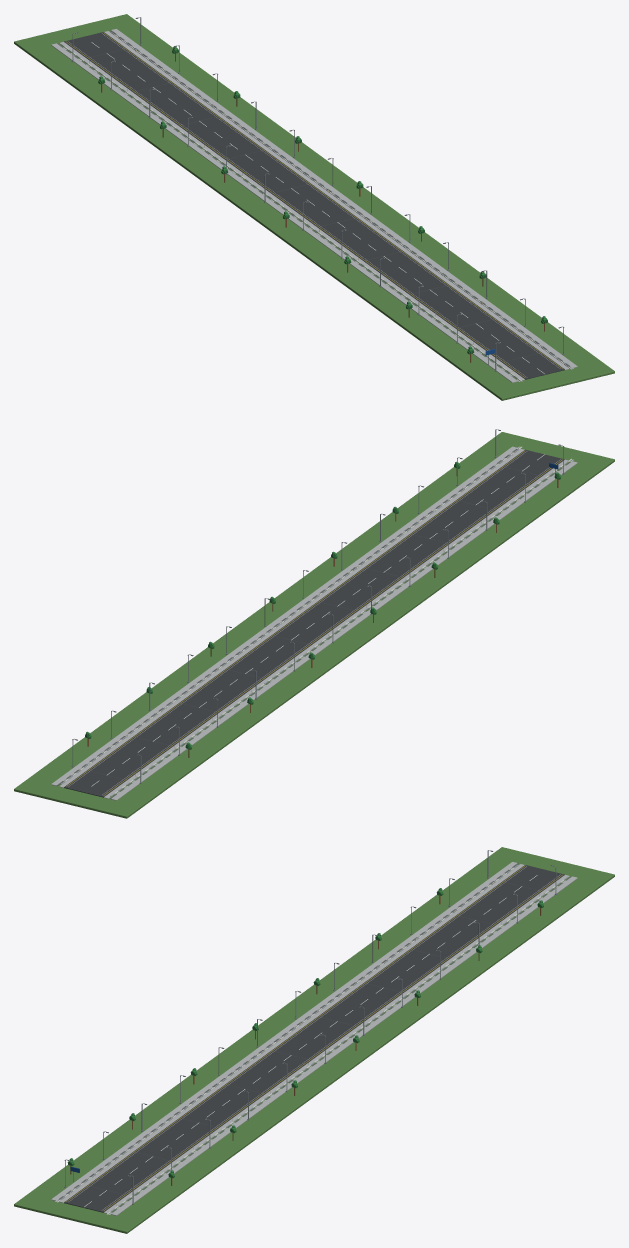
Rendered from Road.fbx.
3 views of the same model, one above another, from view 1: azimuth 30°, elevation 25°; view 2: azimuth 150°, elevation 25°; view 3: azimuth 330°, elevation 25° (orthographic).
Visible parts, largest first — view 1: Long tropical roadside ground, Main Malaysian asphalt carriageway, Continuous concrete footpath, Continuous concrete footpath.001, Right road shoulder, Left road shoulder, Open roadside drain channel.001; view 2: Long tropical roadside ground, Main Malaysian asphalt carriageway, Continuous concrete footpath, Continuous concrete footpath.001, Right road shoulder, Left road shoulder, Open roadside drain channel.001; view 3: Long tropical roadside ground, Main Malaysian asphalt carriageway, Continuous concrete footpath.001, Continuous concrete footpath, Left road shoulder, Right road shoulder, Open roadside drain channel.
Boxes of the visible parts, <box> form: Long tropical roadside ground: <box>14,14,614,400</box>; Main Malaysian asphalt carriageway: <box>64,32,564,379</box>; Continuous concrete footpath: <box>51,43,517,382</box>; Continuous concrete footpath.001: <box>111,29,577,367</box>; Right road shoulder: <box>104,31,569,369</box>; Left road shoulder: <box>59,42,524,380</box>; Open roadside drain channel.001: <box>110,30,571,368</box>; Long tropical roadside ground: <box>14,432,614,818</box>; Main Malaysian asphalt carriageway: <box>64,449,564,797</box>; Continuous concrete footpath: <box>111,461,577,800</box>; Continuous concrete footpath.001: <box>51,446,516,785</box>; Right road shoulder: <box>59,449,524,787</box>; Left road shoulder: <box>104,459,568,798</box>; Open roadside drain channel.001: <box>56,448,518,785</box>; Long tropical roadside ground: <box>14,847,614,1233</box>; Main Malaysian asphalt carriageway: <box>64,865,564,1212</box>; Continuous concrete footpath.001: <box>111,876,577,1215</box>; Continuous concrete footpath: <box>51,862,517,1200</box>; Left road shoulder: <box>59,864,524,1202</box>; Right road shoulder: <box>104,875,569,1213</box>; Open roadside drain channel: <box>57,863,518,1201</box>.
Bounding box in the file's own units: 3400 × 910 × 25400.
